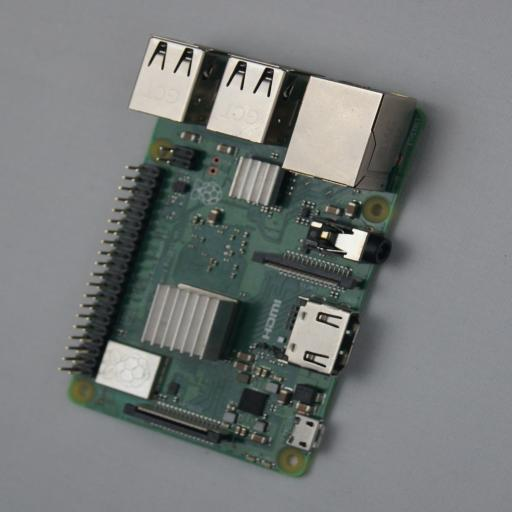Raspberry Pi 3 B-: (62, 37, 444, 478)
